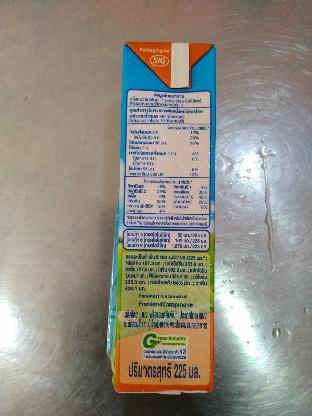Others: (112, 36, 228, 398)
